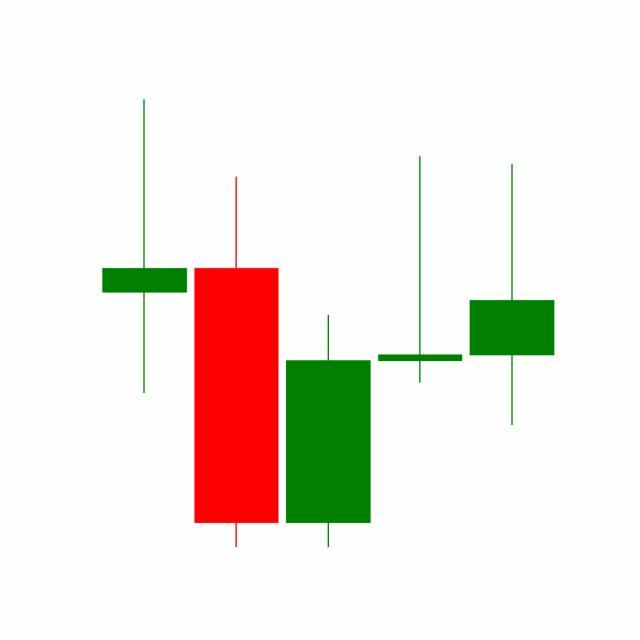Spinning Top: (466, 162, 559, 429)
